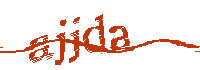a: (29, 35, 54, 65), (108, 24, 132, 55)
d: (83, 11, 107, 56)
j: (54, 15, 67, 68), (68, 14, 81, 67)
